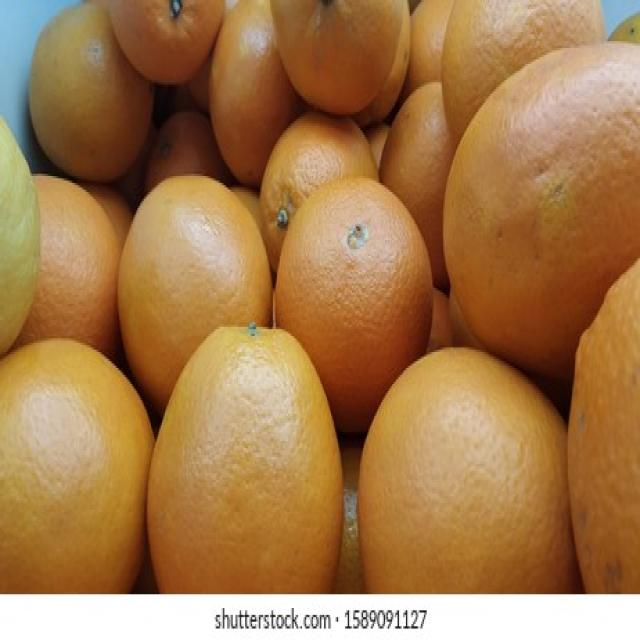Good_Orange: (443, 43, 640, 370), (145, 325, 345, 597), (357, 347, 576, 594), (0, 338, 155, 594), (274, 178, 434, 423), (118, 176, 272, 400)
